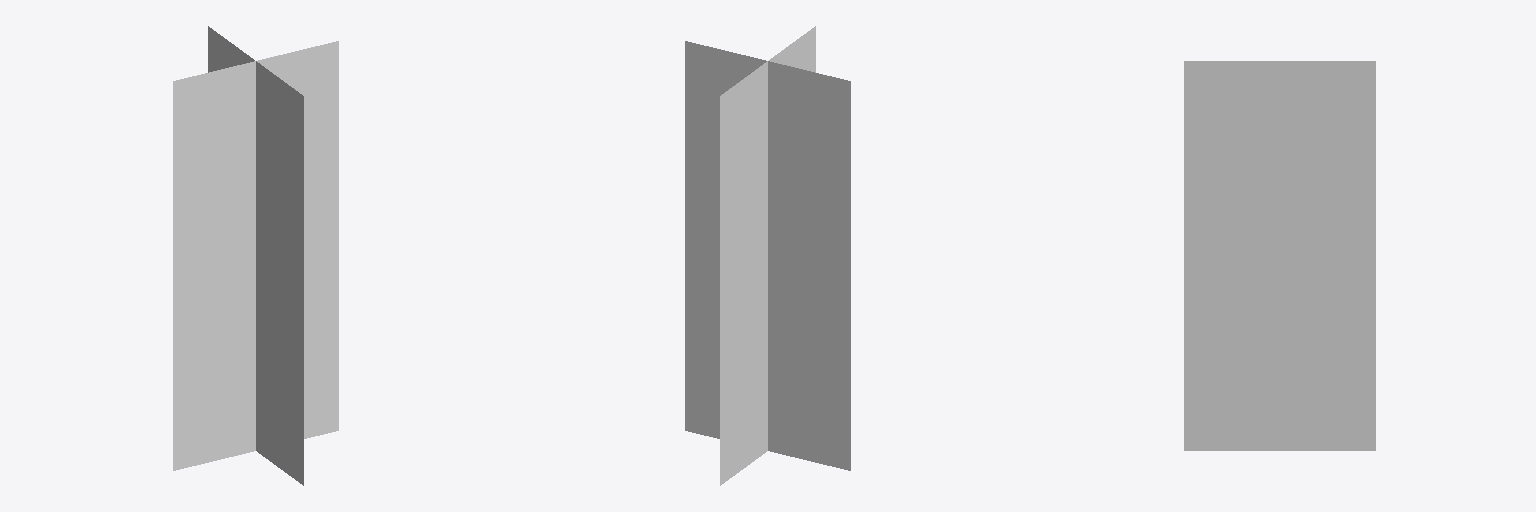
The model's file is Red_Alder_Fan_0.obj.
3 views of the same model, side by side, from view 1: azimuth 30°, elevation 25°; view 2: azimuth 150°, elevation 25°; view 3: azimuth 270°, elevation 25° (orthographic).
Visible parts, largest first — view 1: CreateFan; view 2: CreateFan; view 3: CreateFan.
Part boxes in pixels (left/top/right/bottom): CreateFan: left=173, top=26, right=338, bottom=485; CreateFan: left=685, top=26, right=850, bottom=485; CreateFan: left=1184, top=61, right=1375, bottom=450.
Bounding box in the file's own units: 7.79 × 17.5 × 7.79.